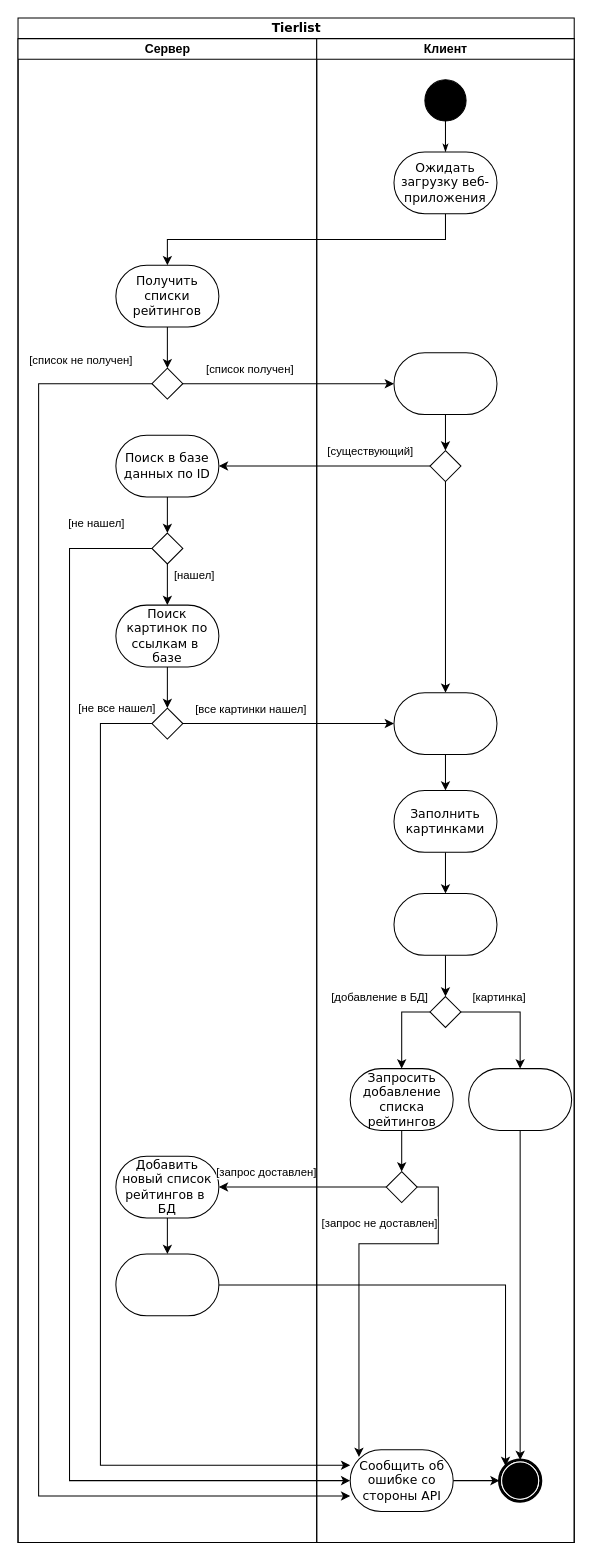
This 592x1560 diagram has some shape labels left out. Each missing label, with the centre of its shape:
"Выб рать спискок рейтингов" belongs at [445,383].
"Скачать картинку на устройство" belongs at [520,1099].
"Создать макет по выбору клиента" belongs at [445,723].
"Сообщить об успехе добавления" belongs at [167,1284].
"Сохраненить список рейтингов" belongs at [445,923].
